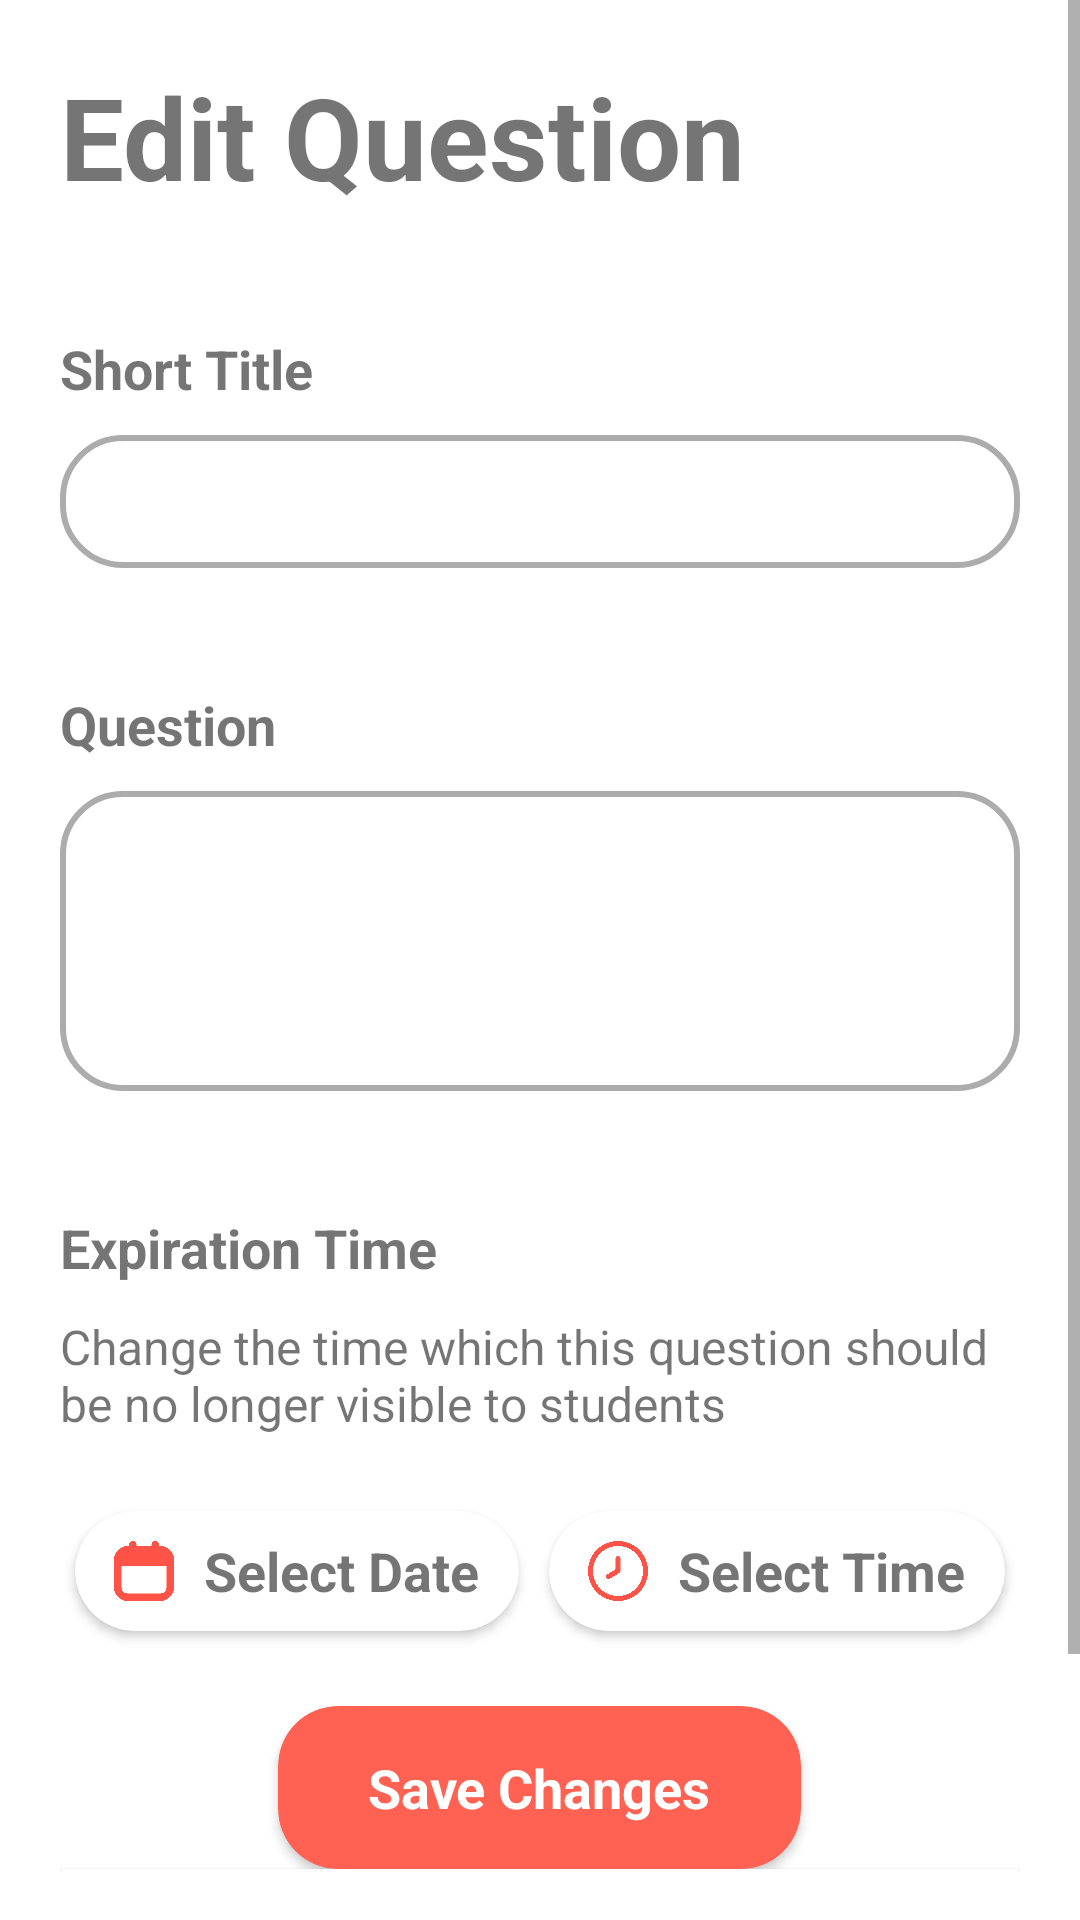

Icon click points for this 1080*1920 phone screenshot, format point (x, y):
timebig: point (618, 1571)
